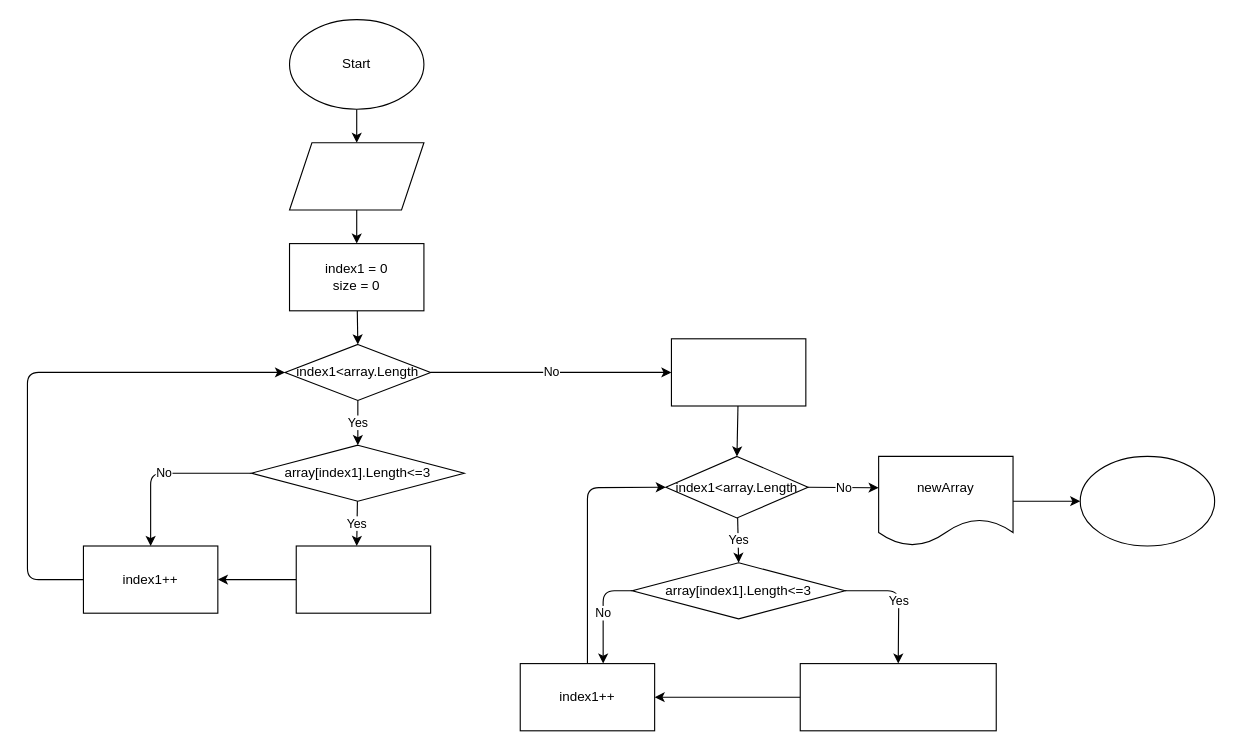
Image size: 1234x750. Some labels were removed from this diagram. The box of each missing label's shape, as (x1, y1, x2, y2) in pixels:
array{}: (288, 142, 424, 210)
Finish: (1079, 455, 1215, 546)
newArray[index2]=array[index1] index2 ++: (799, 662, 996, 731)
newArray[size] index= 0 index2 = 0: (670, 338, 806, 406)
size++: (295, 545, 431, 613)
